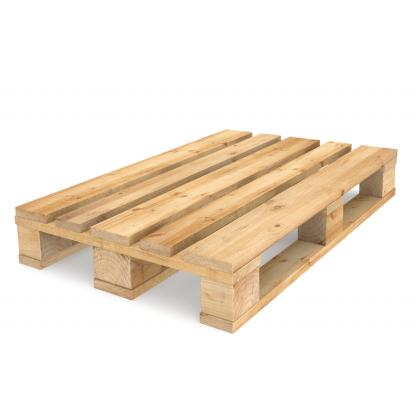BoxFace: (10, 124, 404, 342)
